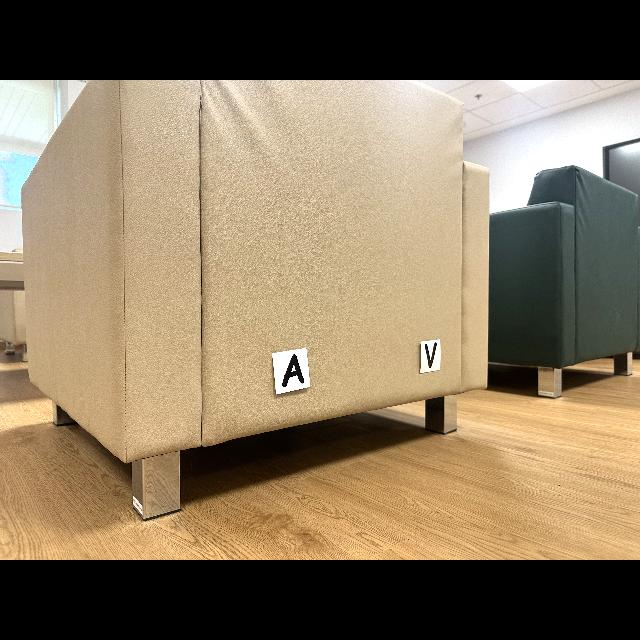A: (282, 354, 305, 388)
V: (425, 342, 437, 369)
